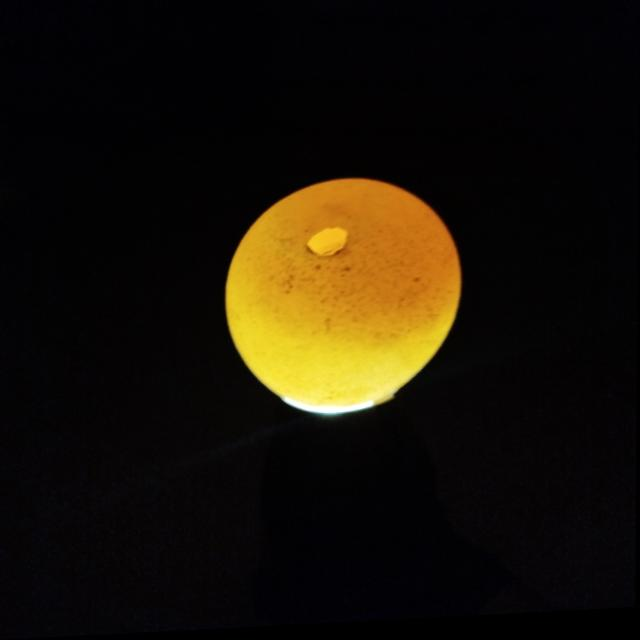Rachadura: (307, 231, 349, 260)
